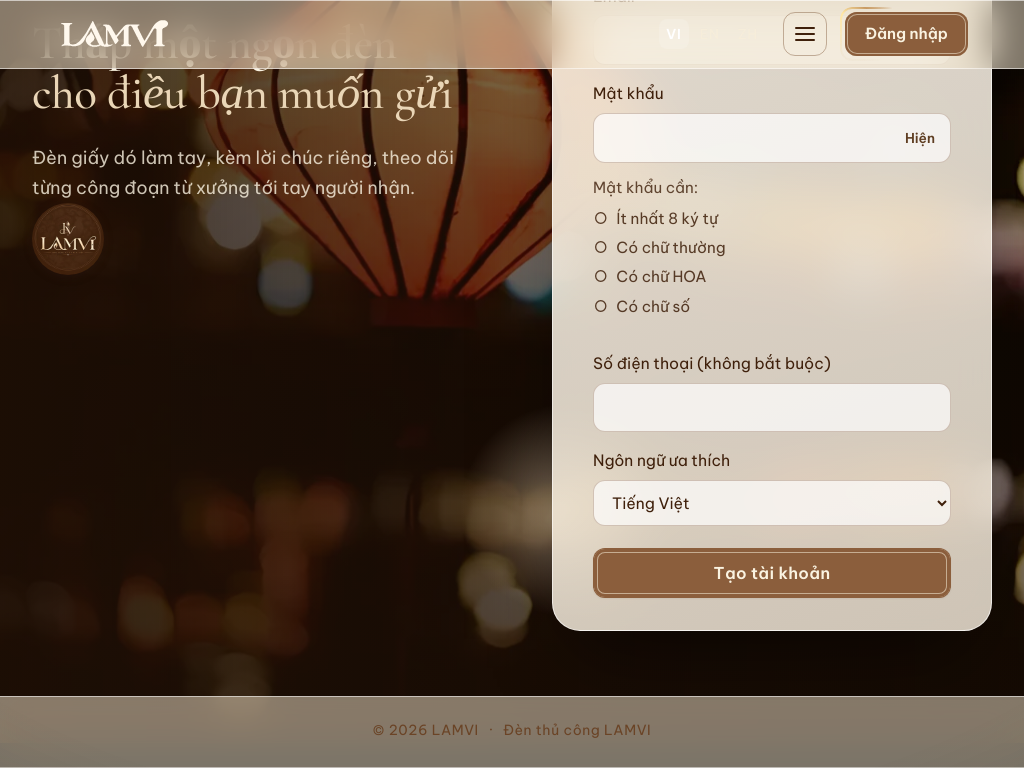
Test: Tài khoản (FR-ACC-001) › đăng ký: lỗi theo trường hiển thị cạnh trường
(page scrolled)
Click the button "Tạo tài khoản": (772, 573) [593, 548, 951, 598]
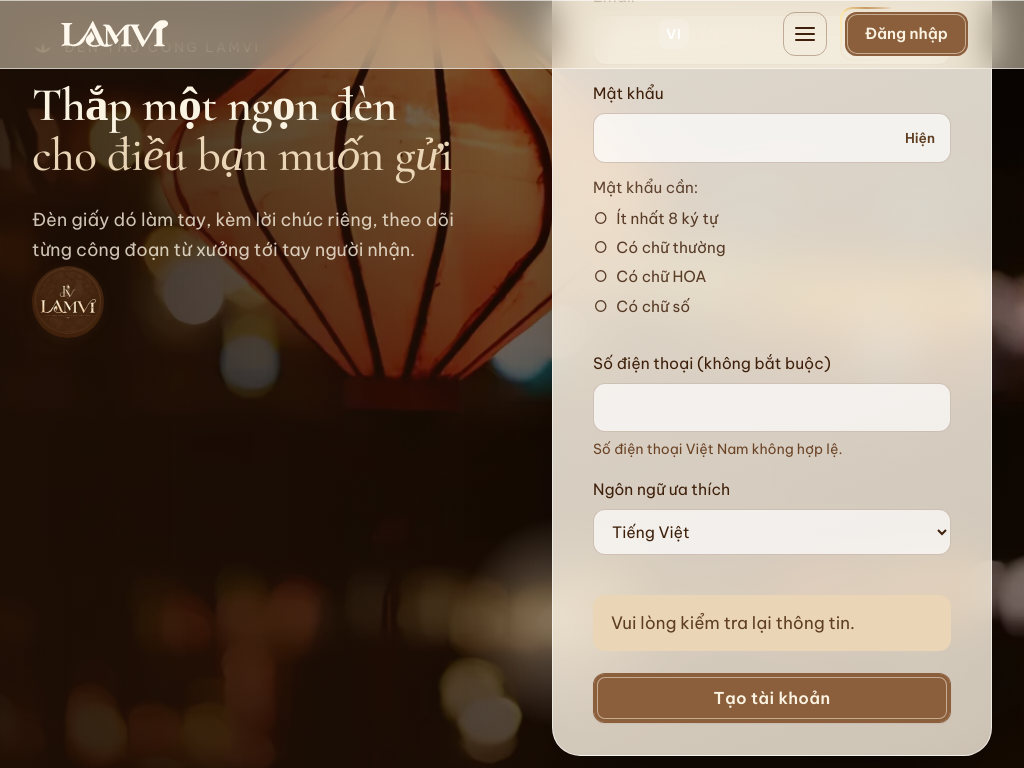
Check: the text "Số điện thoại Việt Nam không hợp lệ." is shown, box [593, 440, 842, 458]
